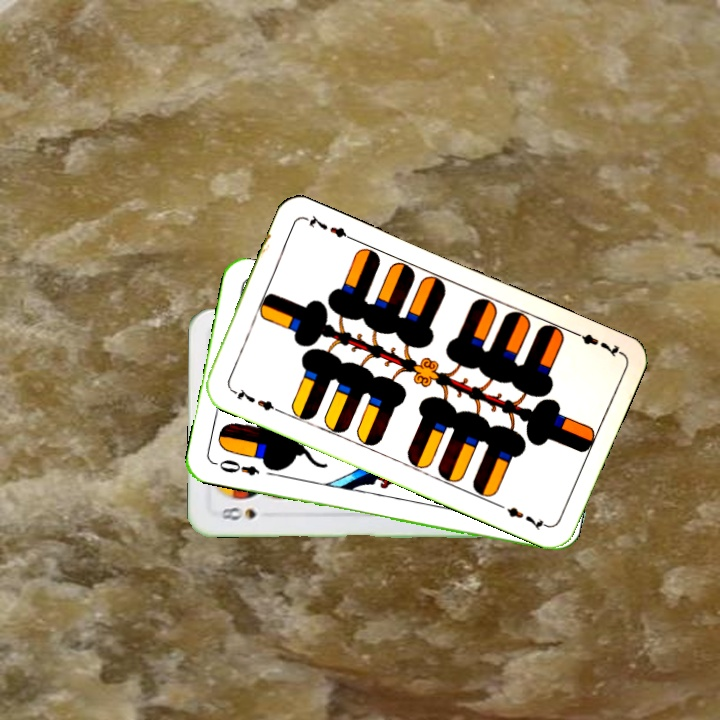E7: (567, 326, 623, 360), (227, 384, 283, 415)
EO: (210, 455, 263, 479)
S8: (217, 503, 259, 523)
